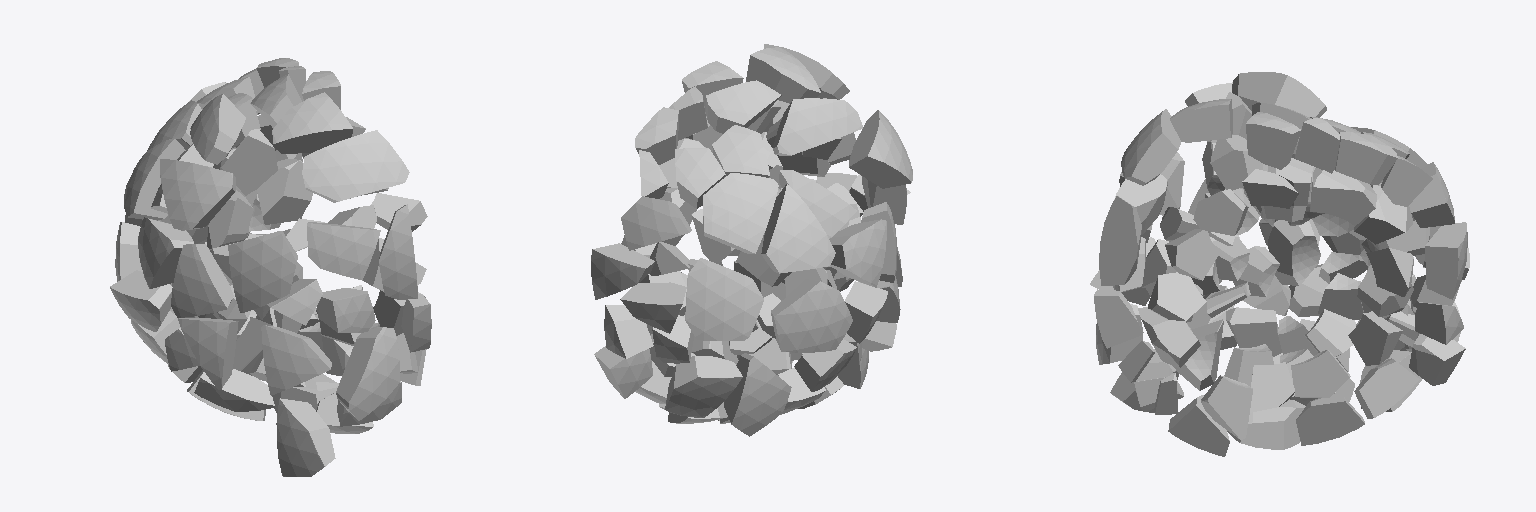
The model's file is shatter_5.obj.
The picture shows the model from 3 angles: view 1: azimuth 30°, elevation 25°; view 2: azimuth 150°, elevation 25°; view 3: azimuth 270°, elevation 25°; orthographic projection.
Size of the model in its own units: 19.69 by 25.76 by 25.88.